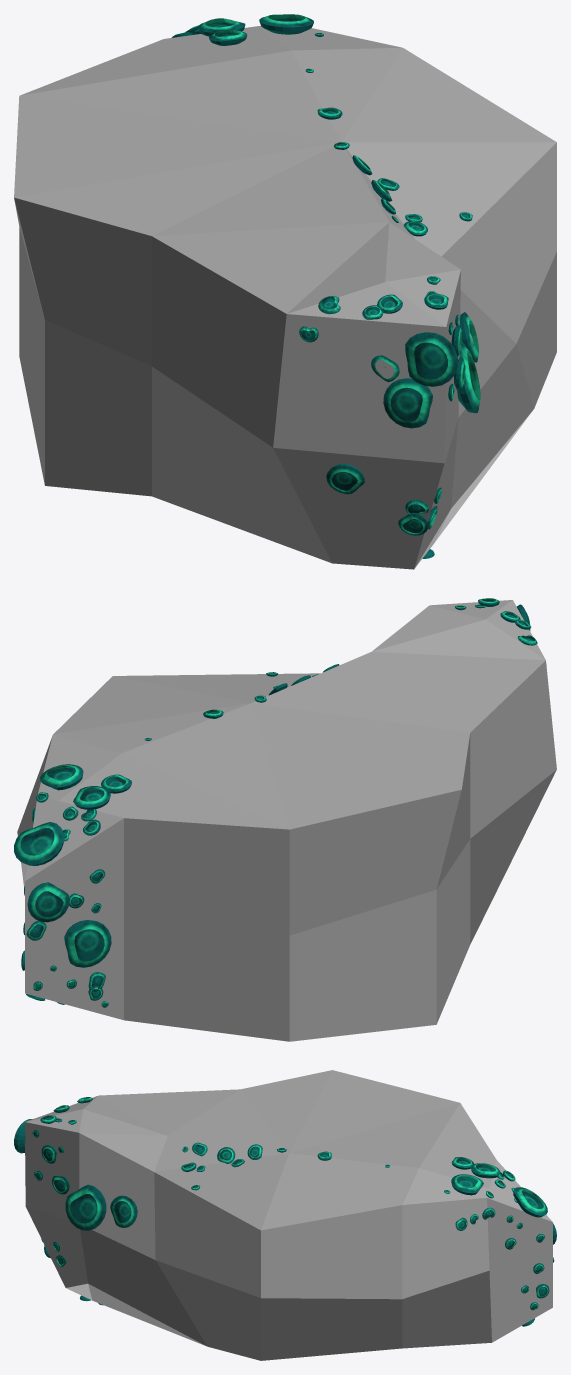
File: Stein2_rework.fbx
3 renders of one model, top to bottom at view 1: azimuth 30°, elevation 25°; view 2: azimuth 150°, elevation 25°; view 3: azimuth 270°, elevation 25°, orthographic. The views are drawn at different scales.
Visible parts, largest first — view 1: stein2, polySurface1; view 2: stein2, polySurface1; view 3: stein2, polySurface1.
Part boxes in pixels (x1,y1,x2,y2): stein2: (14,25,556,569); polySurface1: (171,14,480,558); stein2: (17,600,556,1041); polySurface1: (14,598,546,1007); stein2: (24,1070,552,1360); polySurface1: (14,1097,556,1326).
Size of the model in its own units: 963 by 596 by 1490.
